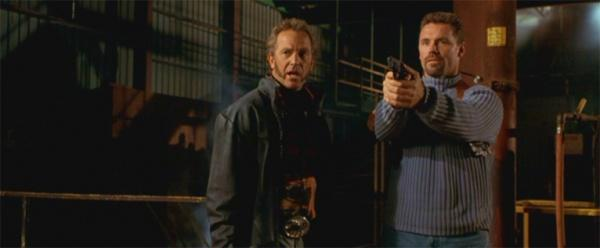Gun: (387, 54, 411, 83)
